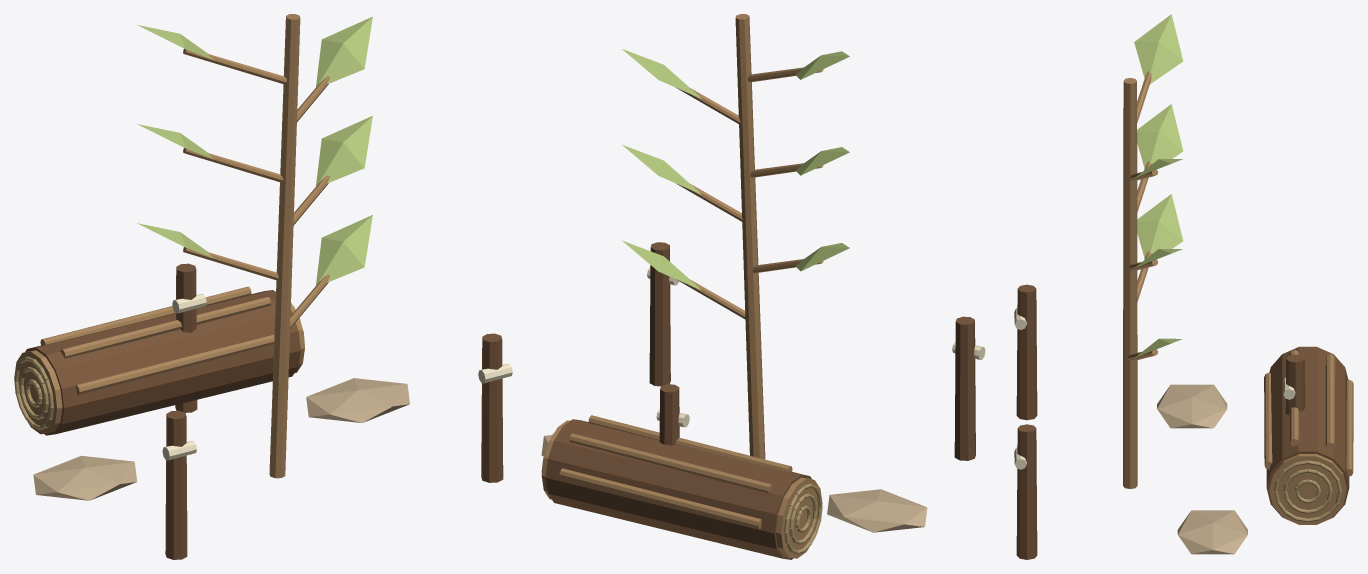
3 views of the same model, side by side, from view 1: azimuth 30°, elevation 25°; view 2: azimuth 150°, elevation 25°; view 3: azimuth 270°, elevation 25° (orthographic). The views are drawn at different scales.
Parts seen in each view (by area): view 1: WW-010 Protected regeneration island batched; view 2: WW-010 Protected regeneration island batched; view 3: WW-010 Protected regeneration island batched.
Part boxes in pixels (box(x1,y1,x2,y2)): WW-010 Protected regeneration island batched: box(14, 14, 512, 559); WW-010 Protected regeneration island batched: box(541, 14, 985, 559); WW-010 Protected regeneration island batched: box(1014, 14, 1353, 559).
Bounding box in the file's own units: 0.9704 × 1.12 × 0.8219.
